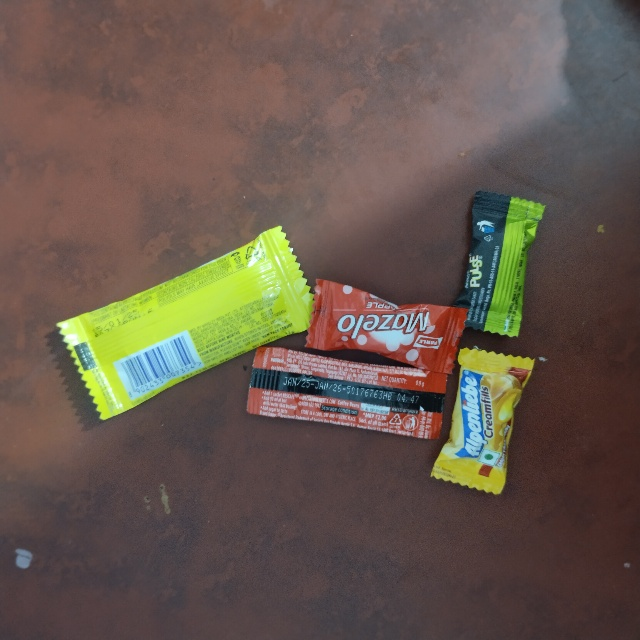Alpenlibe Creamfills: (462, 341, 539, 485)
Mazelo: (315, 280, 465, 347)
Nescafe Coffee: (258, 342, 452, 418)
Orbit: (50, 331, 309, 436)
Pulse: (475, 187, 546, 330)
